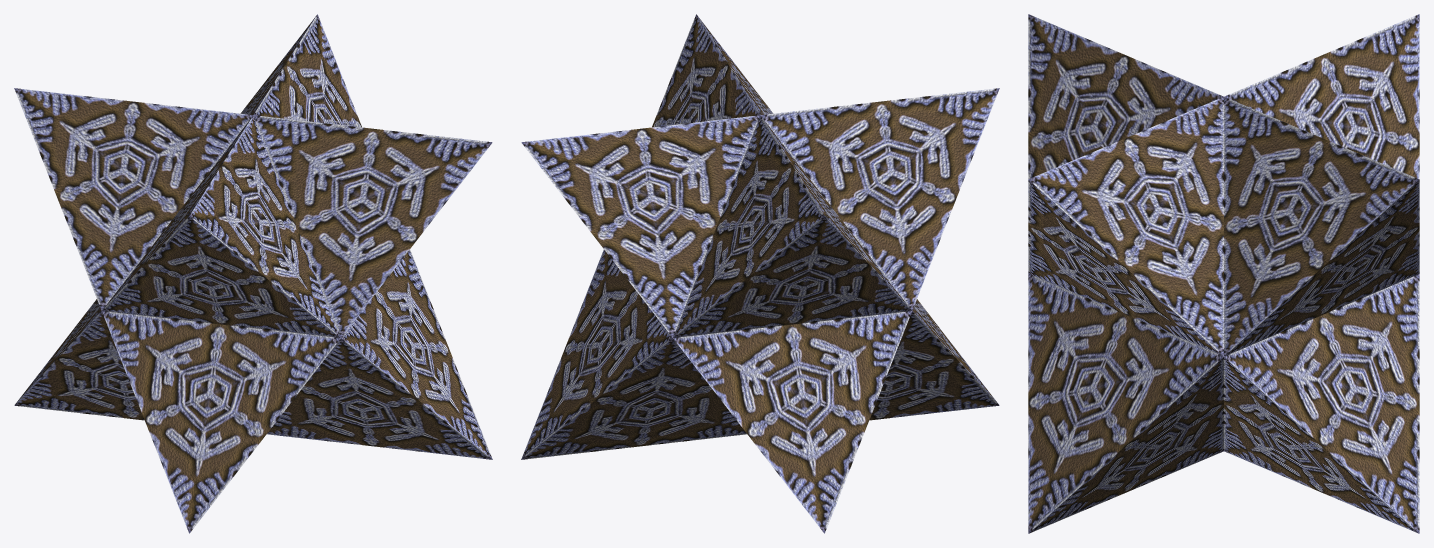
The model's file is StellaOctangula3.obj.
3 views of the same model, side by side, from view 1: azimuth 30°, elevation 25°; view 2: azimuth 150°, elevation 25°; view 3: azimuth 270°, elevation 25° (orthographic). The views are drawn at different scales.
Size of the model in its own units: 0.7071 by 0.7071 by 0.7071.
Materials: 1 (1 with a texture image).
